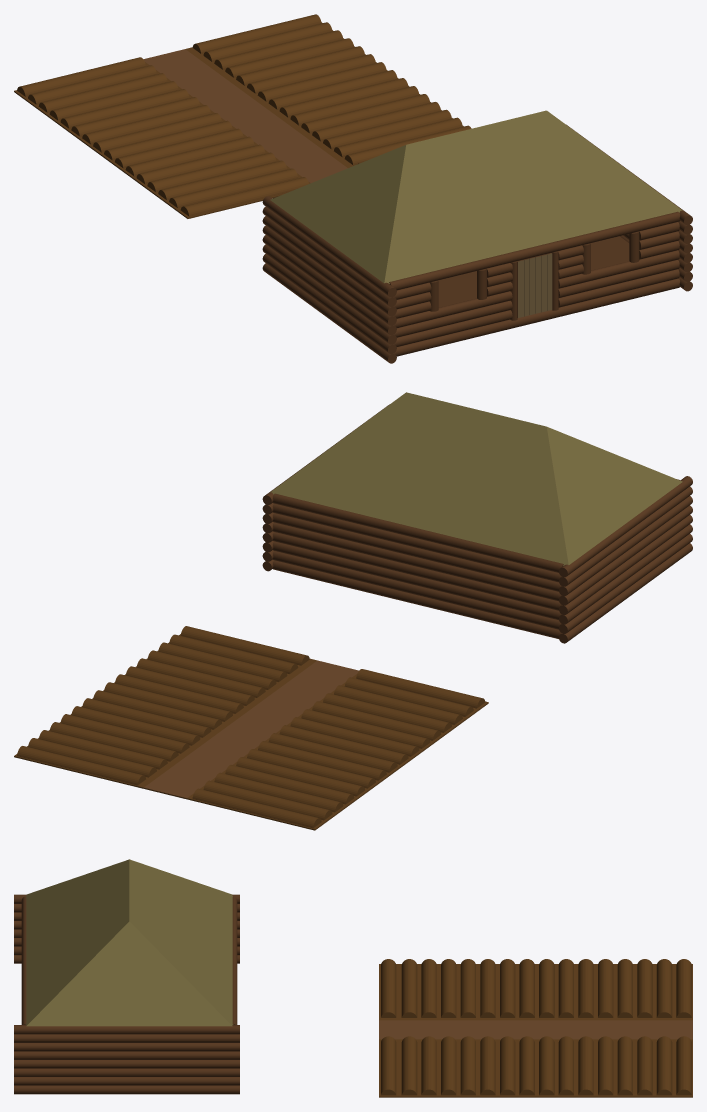
File: FarmColorsCarrotless.fbx
The picture shows the model from 3 angles, top to bottom: view 1: azimuth 30°, elevation 25°; view 2: azimuth 150°, elevation 25°; view 3: azimuth 270°, elevation 25°; orthographic projection. The views are drawn at different scales.
Parts seen in each view (by area): view 1: FarmHouse, Plane, Plane.001; view 2: FarmHouse, Plane, Plane.001; view 3: FarmHouse, Plane, Plane.001.
Boxes of the visible parts, x1,y1,x2,y2 form: FarmHouse: (262, 110, 692, 363); Plane: (17, 14, 471, 216); Plane.001: (14, 22, 463, 218); FarmHouse: (262, 392, 692, 643); Plane: (17, 626, 485, 828); Plane.001: (14, 634, 488, 830); FarmHouse: (14, 859, 239, 1094); Plane: (381, 959, 691, 1095); Plane.001: (379, 964, 692, 1097).
Size of the model in its own units: 2433 by 1189 by 5192.
